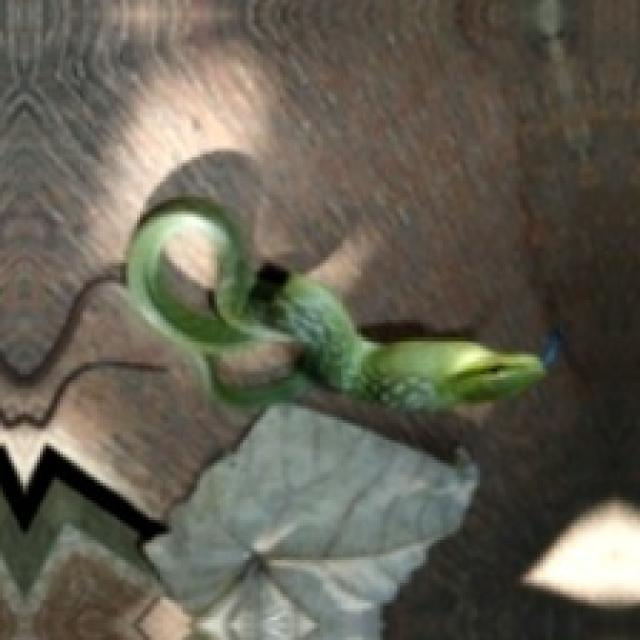red-tailed green ratsnake: (126, 197, 543, 409)
